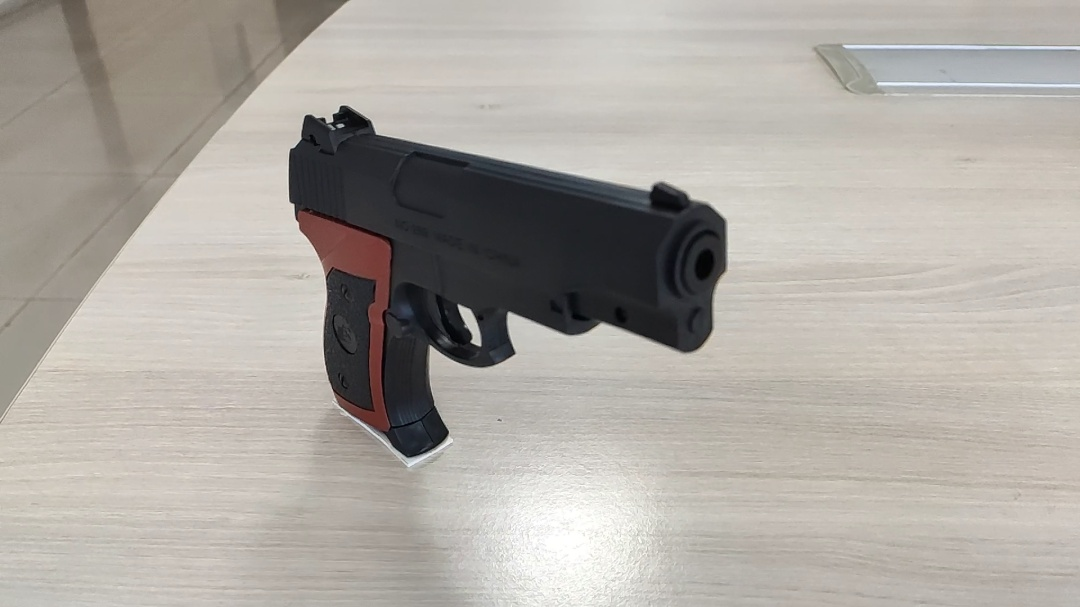gun: (354, 245, 471, 403)
